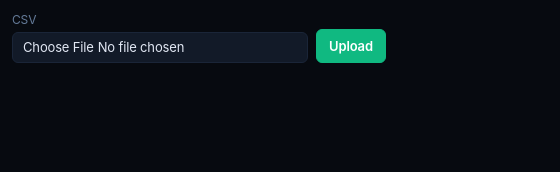
Test: token handling and uploads › CsvUpload requires a file and reports server validation errors
Later steps or results of the test are not shown.
Click the button "Upload" at (351, 46), box 316,28 -> 386,63
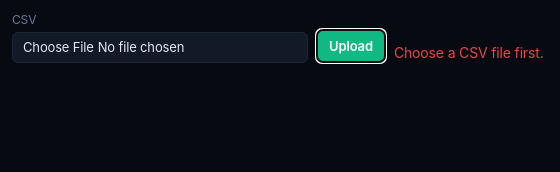
Expected: the message shows "Choose a CSV file first", 394,44 -> 544,61
